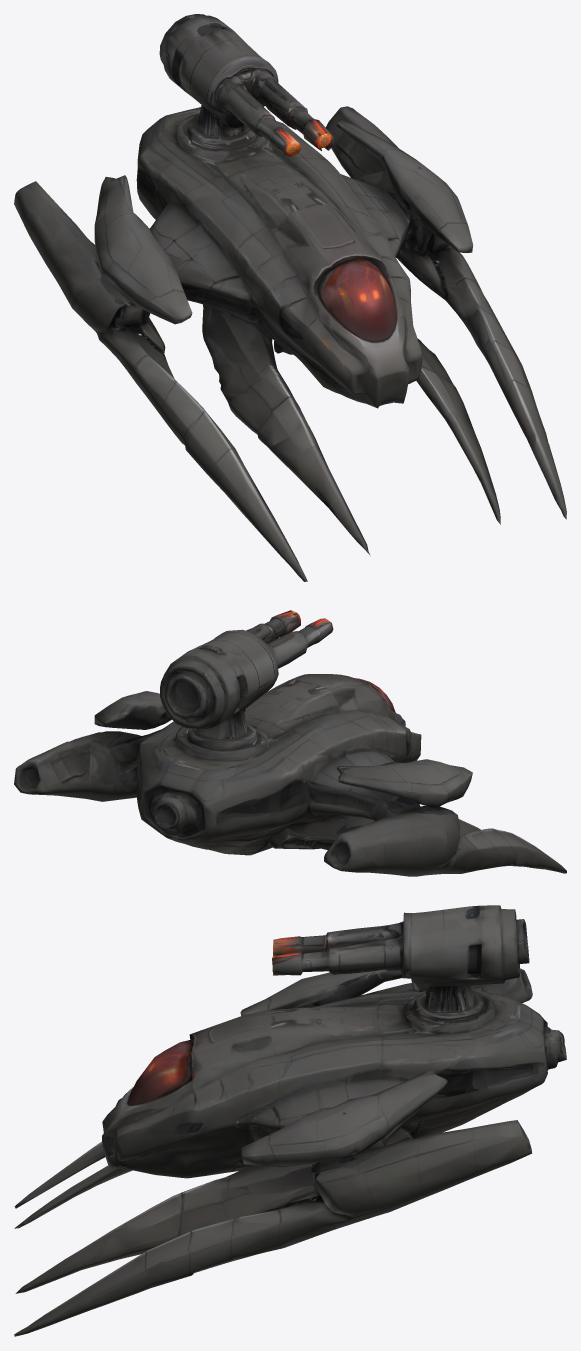
The model's file is dark3.gltf.
3 renders of one model, top to bottom at view 1: azimuth 30°, elevation 25°; view 2: azimuth 150°, elevation 25°; view 3: azimuth 270°, elevation 25°, orthographic.
Bounding box in the file's own units: 1.57 × 1.45 × 1.99.
1 material, 1 textured.
